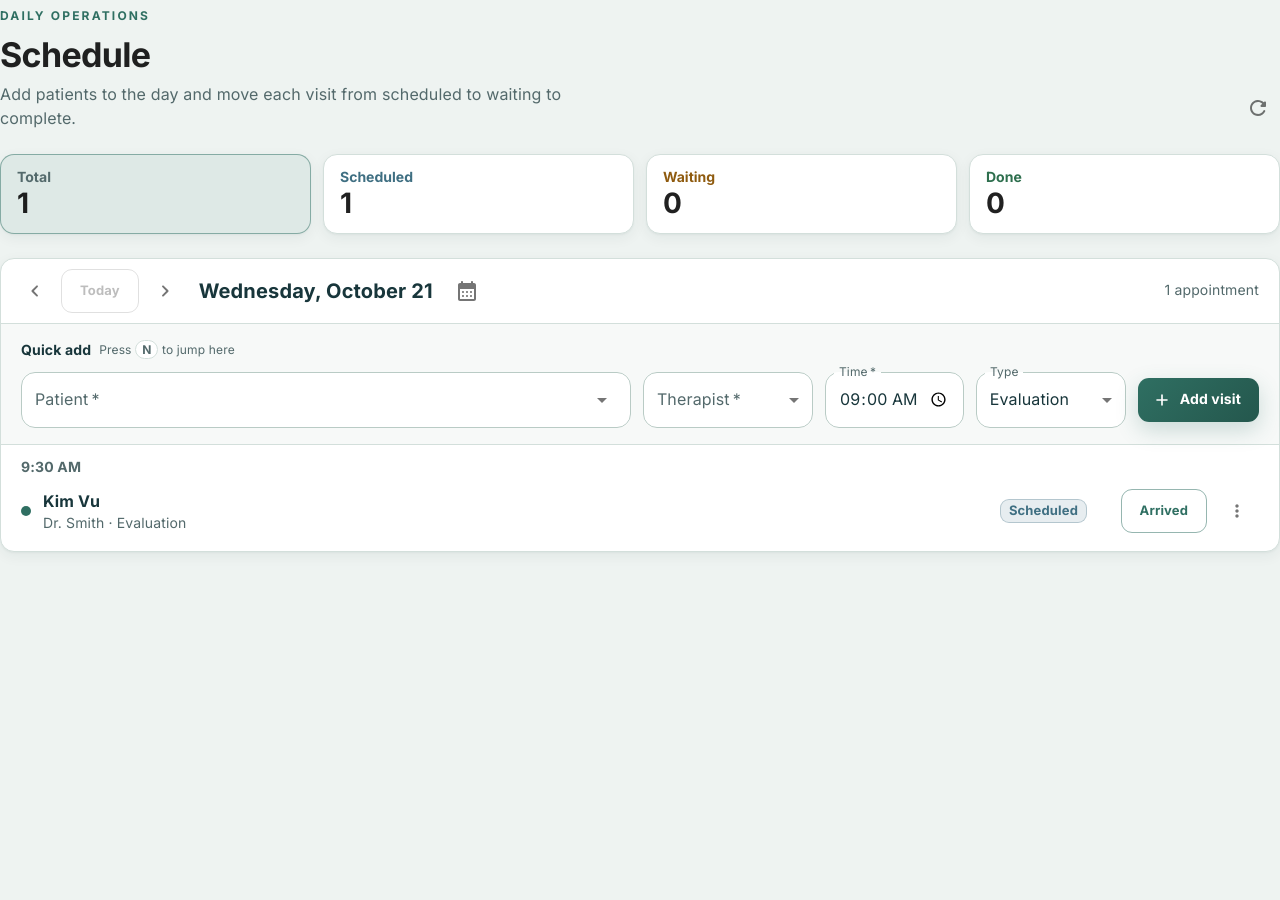
Scenario: SchedulePage › opens the edit drawer and cancellation dialog from the row menu
Expected: the text "Kim Vu" is shown, [43,490,100,510]
What coordinates should you click on to do the following:
click the button named "More actions for Kim Vu"
I would click on:
 (1237, 510)
Its box is [1215,488,1259,532].
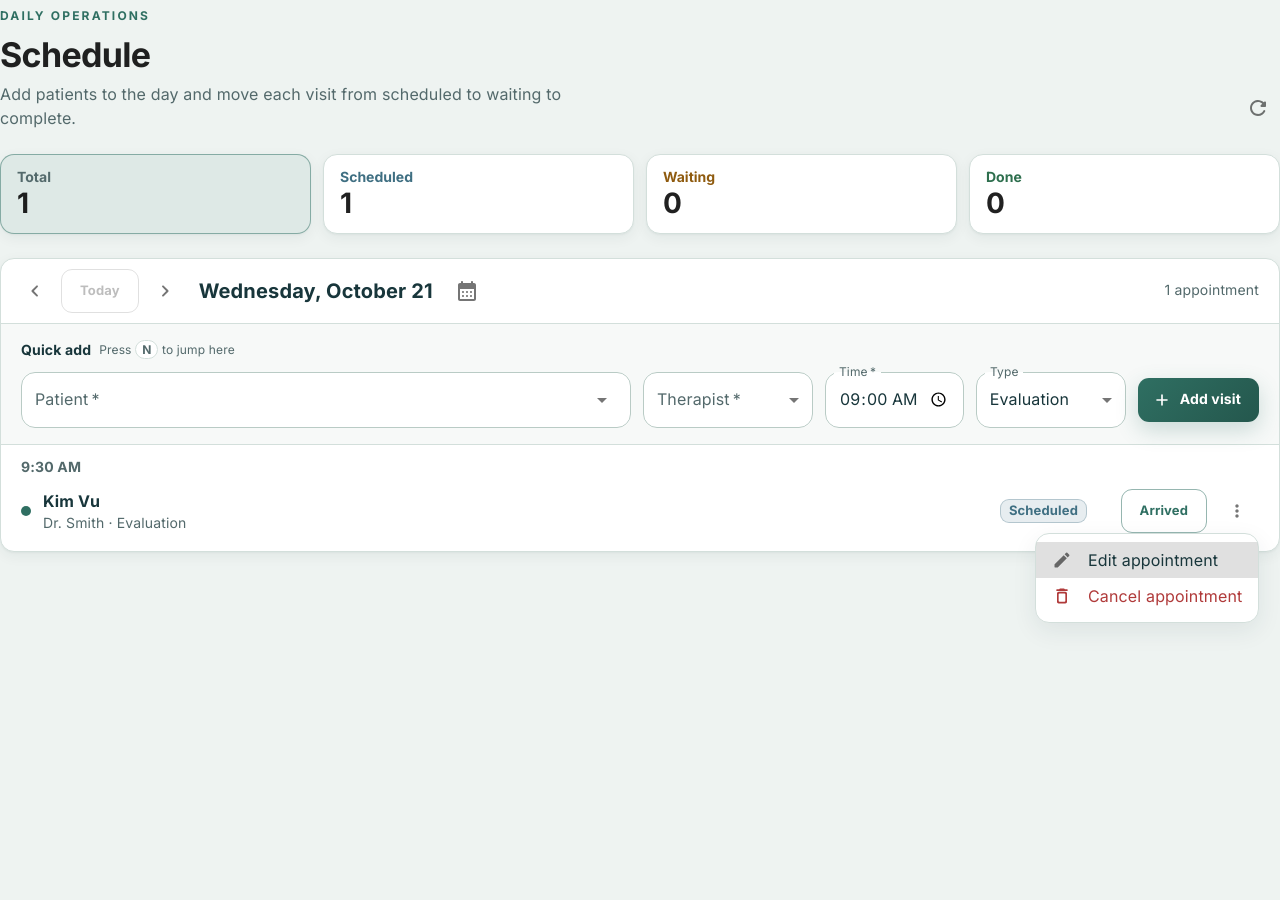
What coordinates should you click on to do the following:
click the menu item "Edit appointment"
I would click on:
 (1147, 560)
Its box is [1036,542,1258,578].
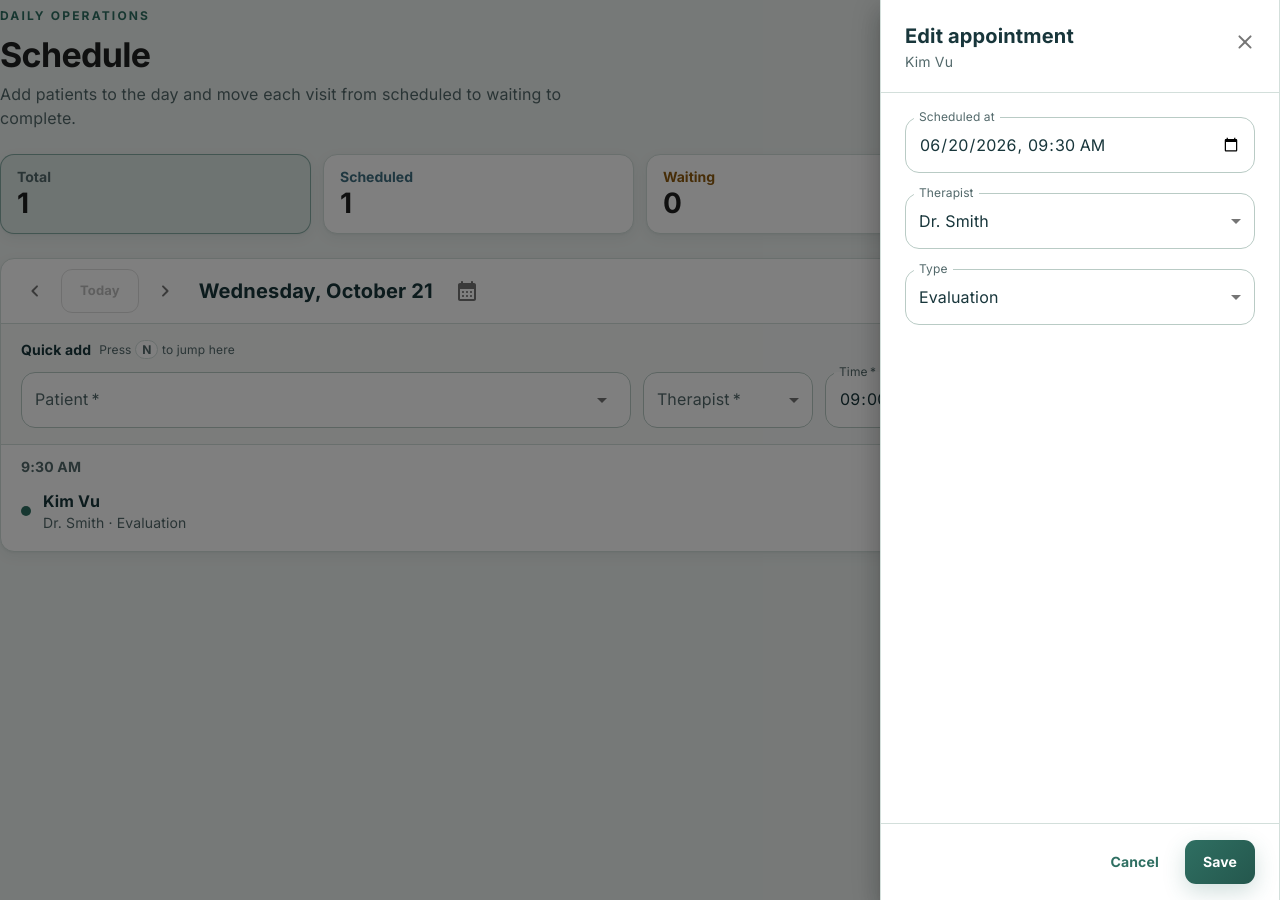
Now the dialog "Edit appointment" shows "Kim Vu", box [905,53,953,70]
What coordinates should you click on to do the following:
click the button "Cancel"
I would click on:
 (1135, 862)
Its box is [1092,840,1177,884].
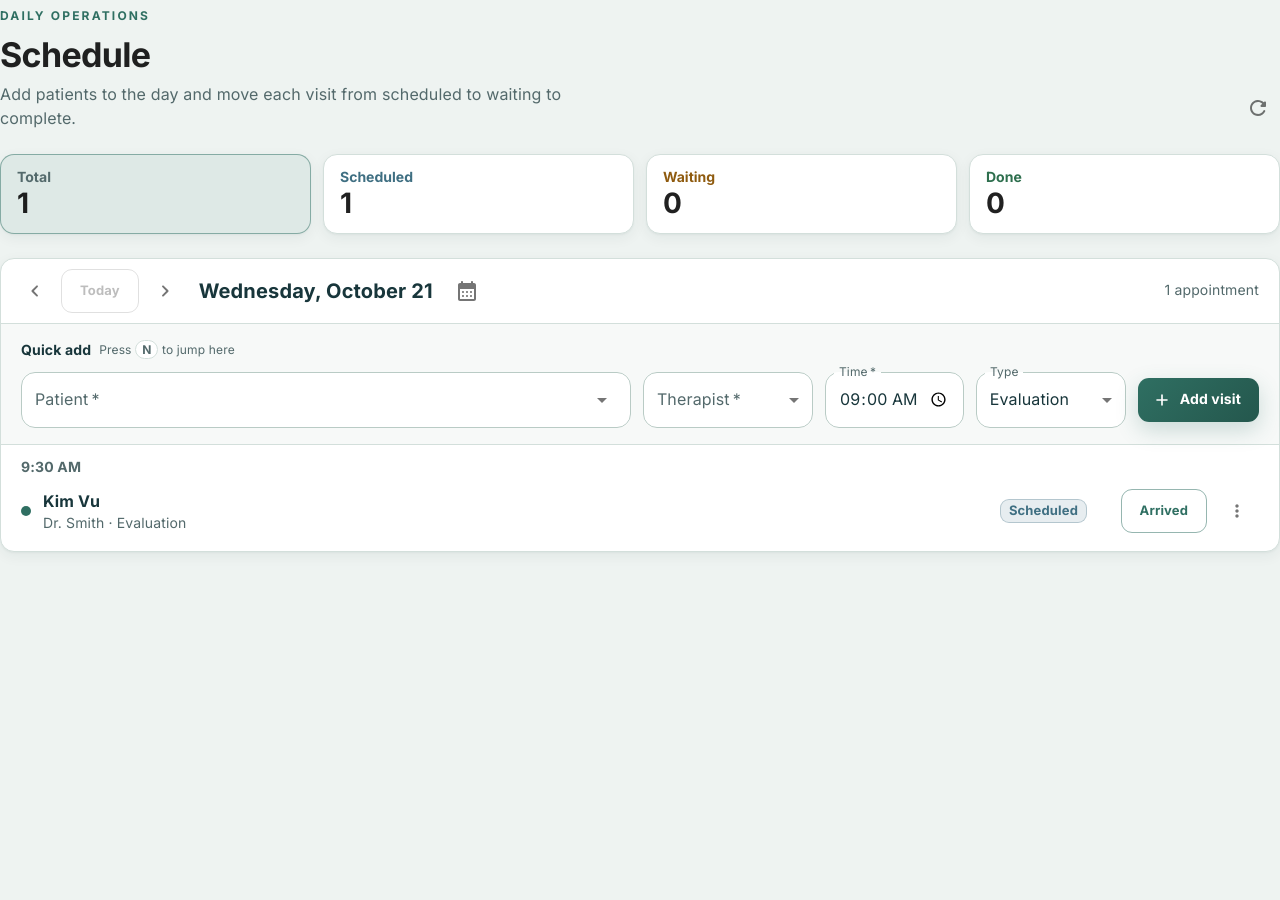
What coordinates should you click on to do the following:
click the button named "More actions for Kim Vu"
I would click on:
 (1237, 510)
Its box is [1215,488,1259,532].
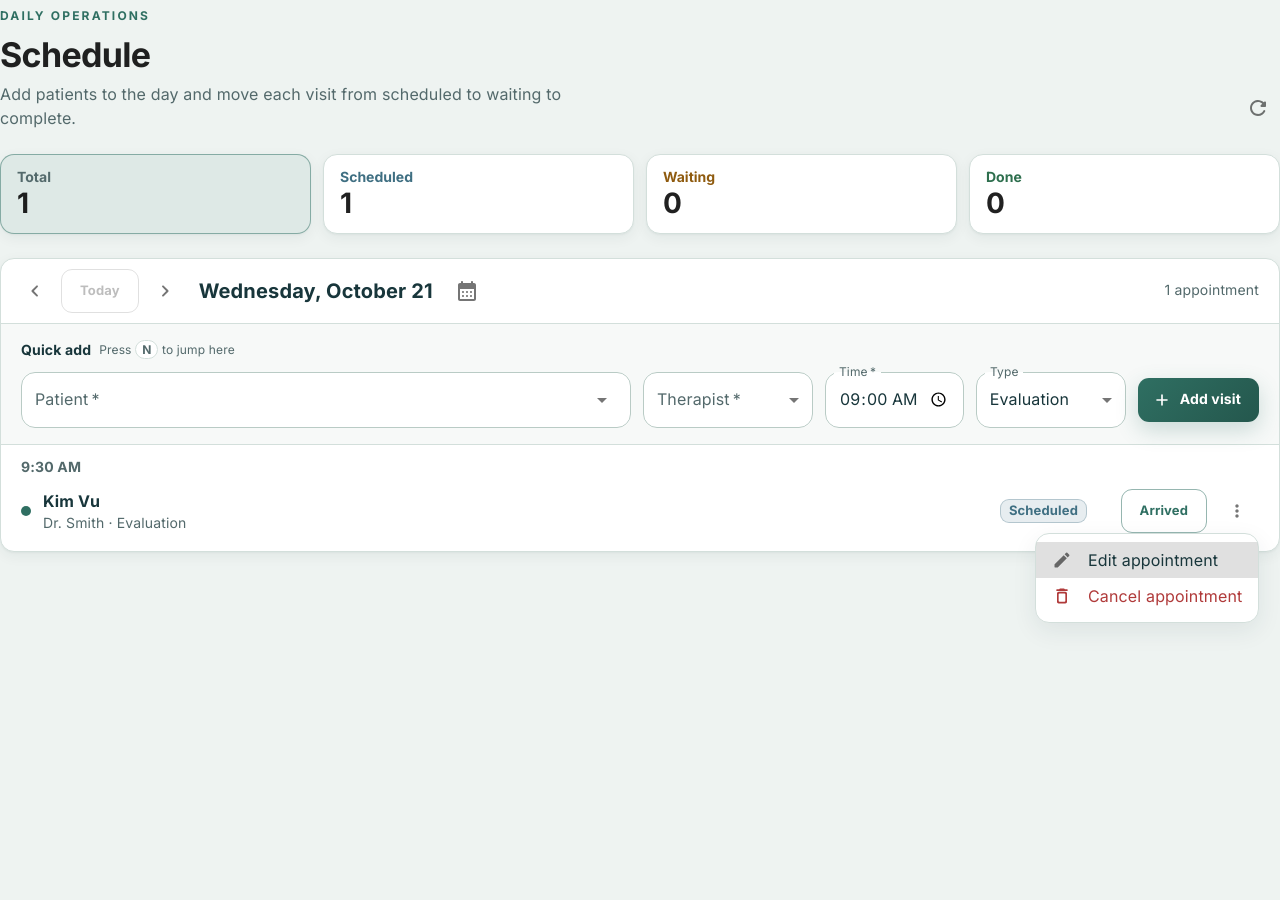
What coordinates should you click on to do the following:
click the menu item "Cancel appointment"
I would click on:
 (1147, 596)
Its box is [1052,586,1242,606].
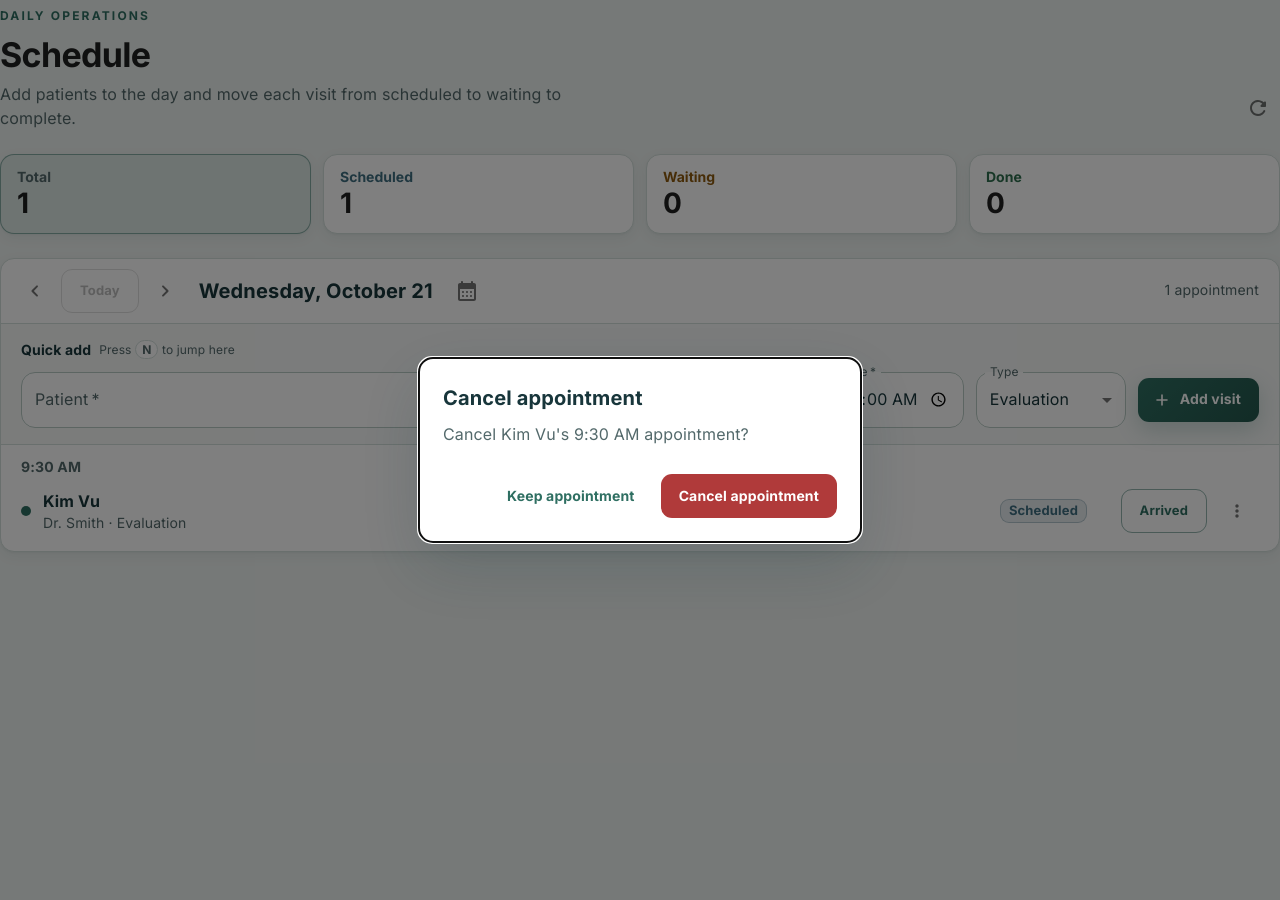
Now the dialog "Cancel appointment" is shown, box [418,357,862,543]
